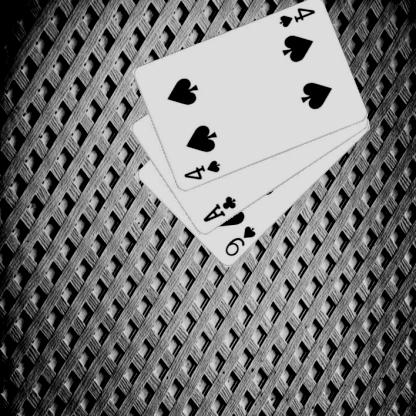4S: (181, 158, 221, 182), (276, 6, 316, 30)
9S: (222, 223, 257, 258)
AC: (200, 193, 238, 224)
